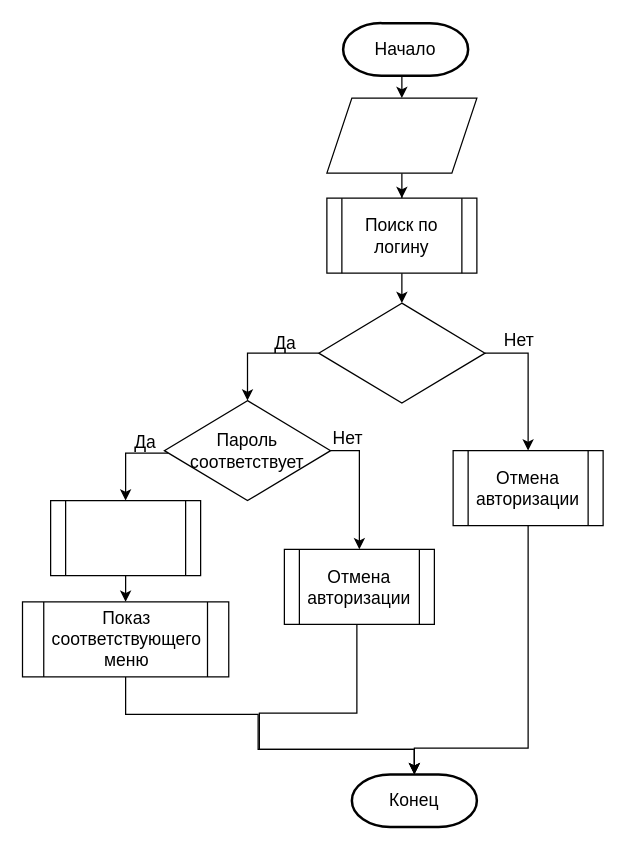
This 625x849 diagram has some shape labels left out. Each missing label, with the centre of its shape:
"Ввод логина и пароля" goes at (x=401, y=135).
"Вход в аккаунт" goes at (x=125, y=537).
"Пользователь найден" goes at (x=401, y=352).
